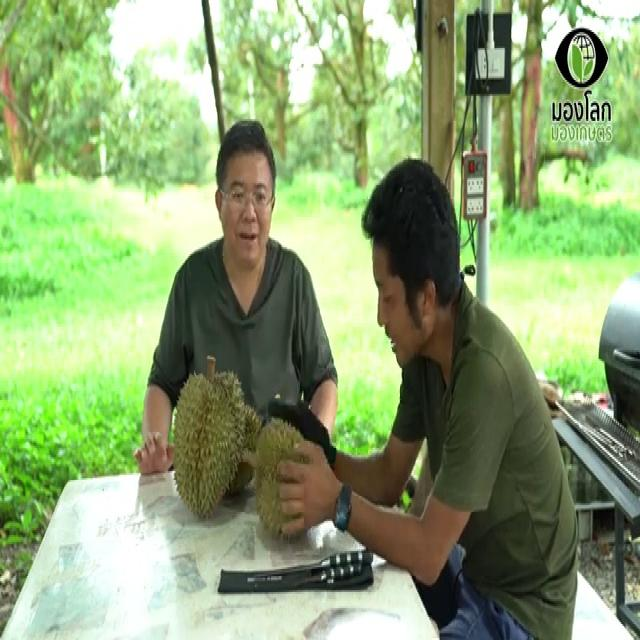durian: (168, 355, 246, 525), (250, 407, 327, 538), (200, 388, 268, 498)
